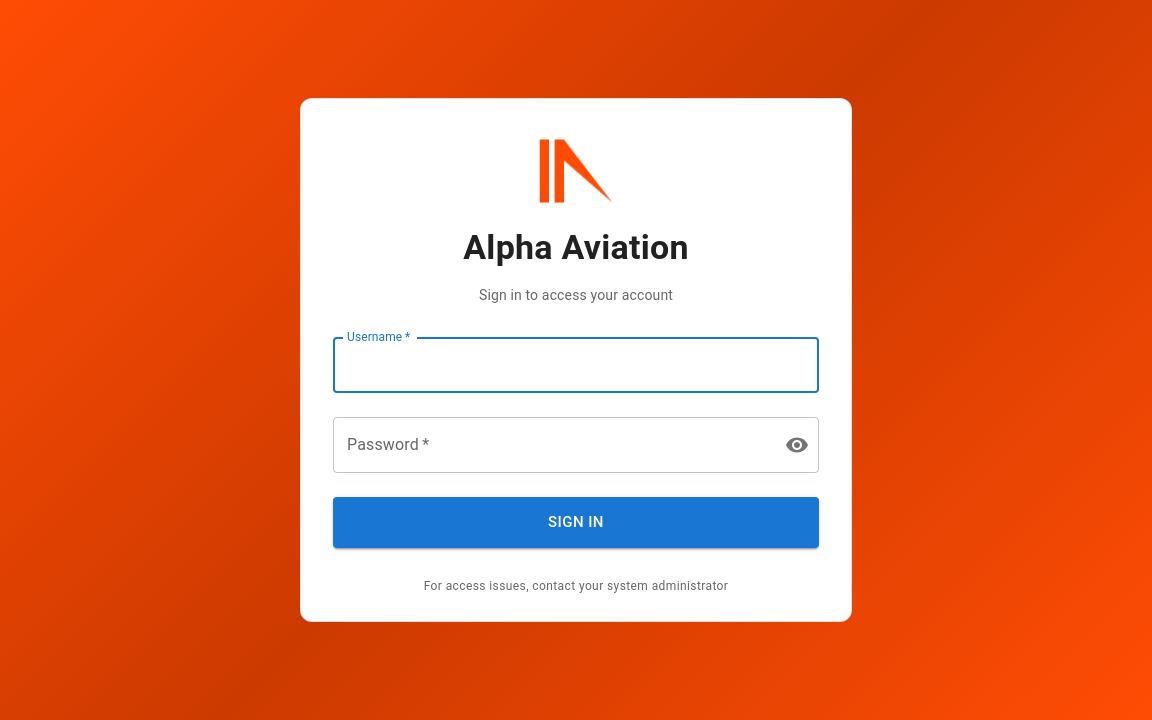
it: Login page › displays error message on failed login
Type "user" into the field labelled "Username *" at (576, 365), box x1=333 y1=337 x2=819 y2=393
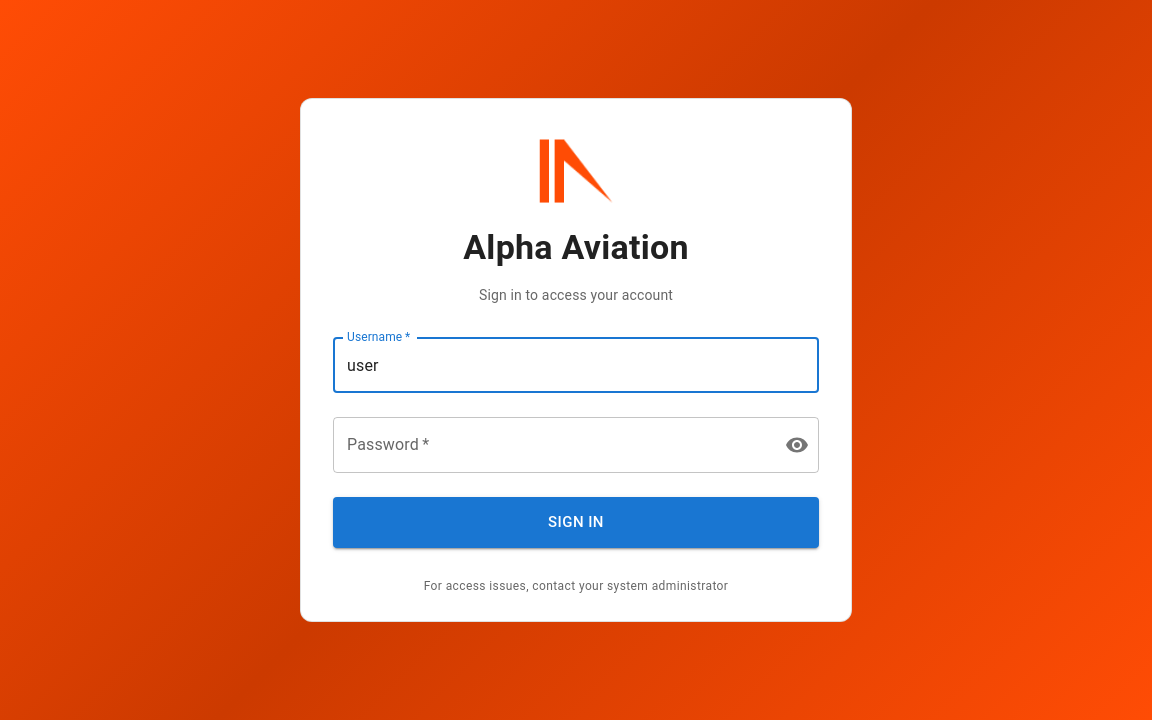
Type "wrong" into the password field labelled "Password *" at (551, 445), box x1=333 y1=417 x2=769 y2=473
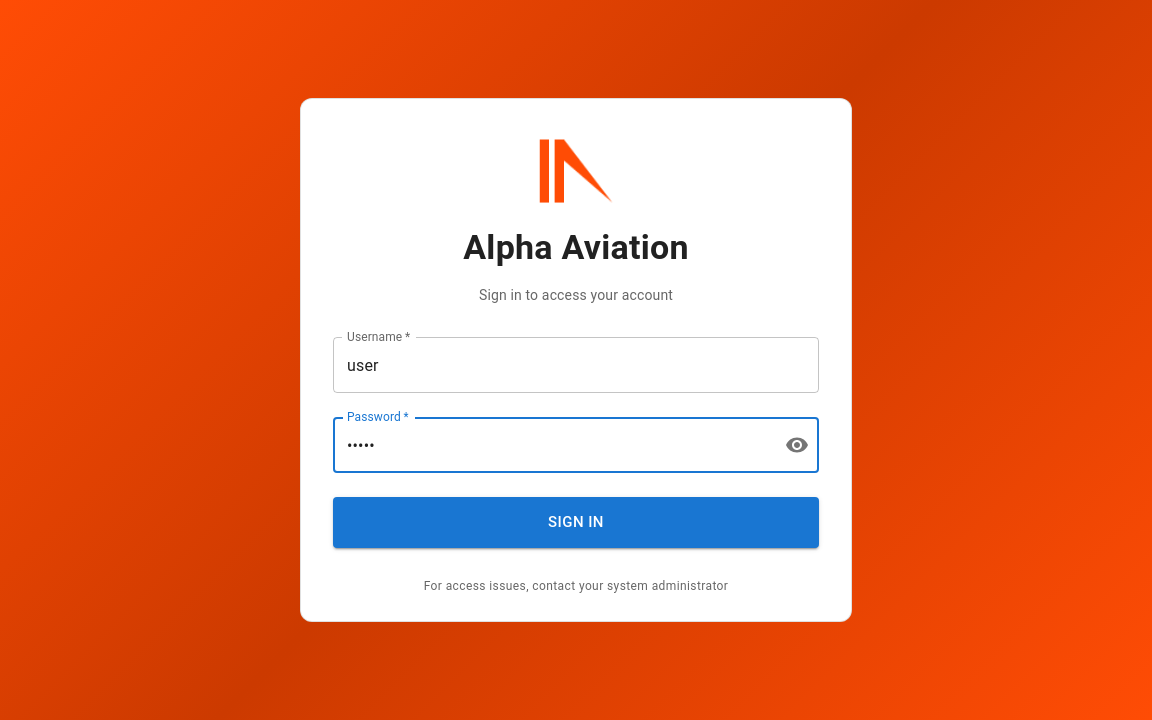
Click the button "Sign In" at (576, 523), box x1=333 y1=497 x2=819 y2=548
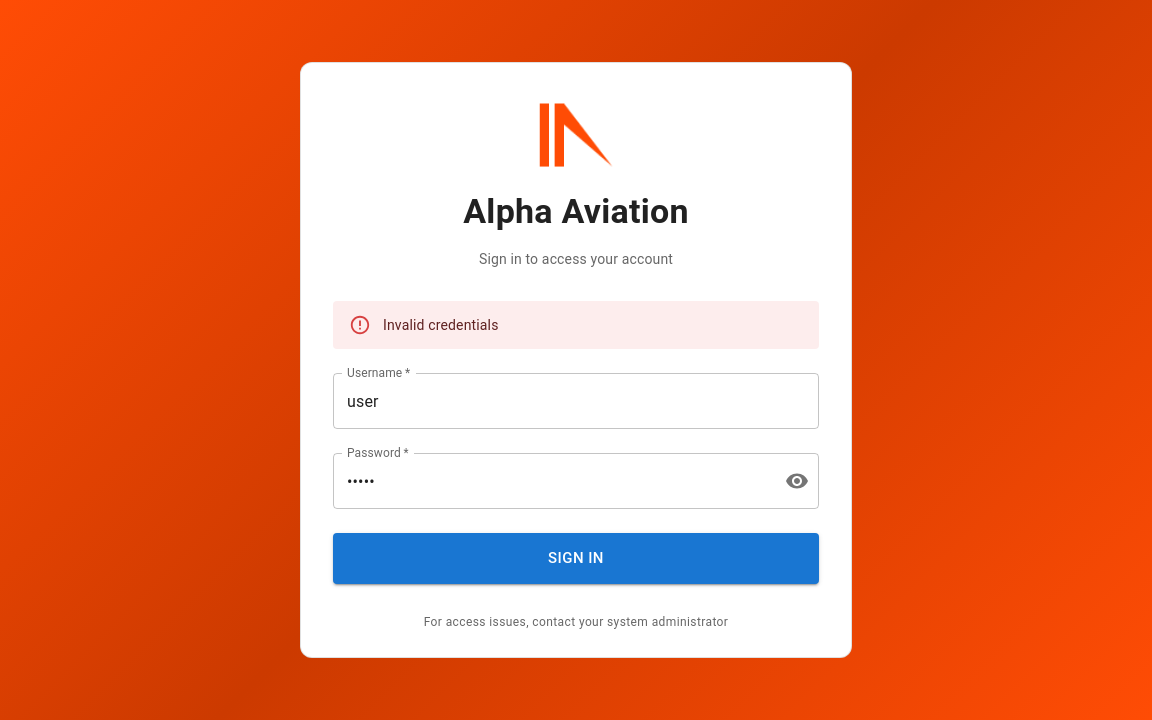
Expected: the text "Invalid credentials" is shown, x1=383 y1=317 x2=498 y2=333
